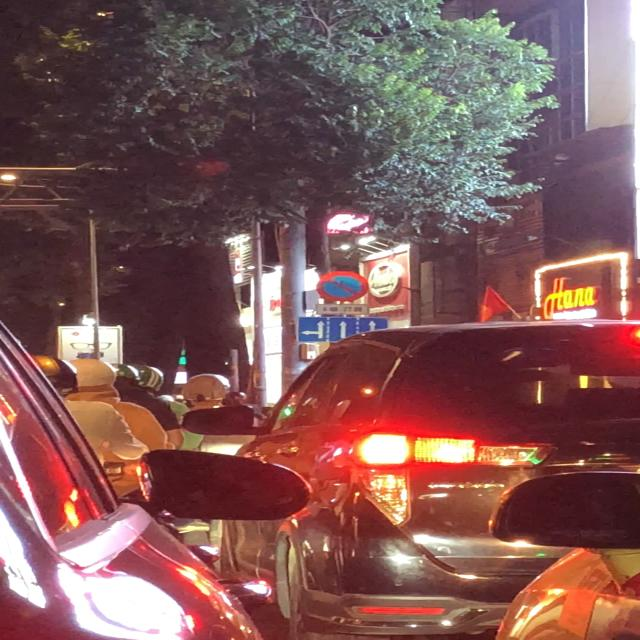Bien bao cam do xe: (317, 270, 371, 302)
